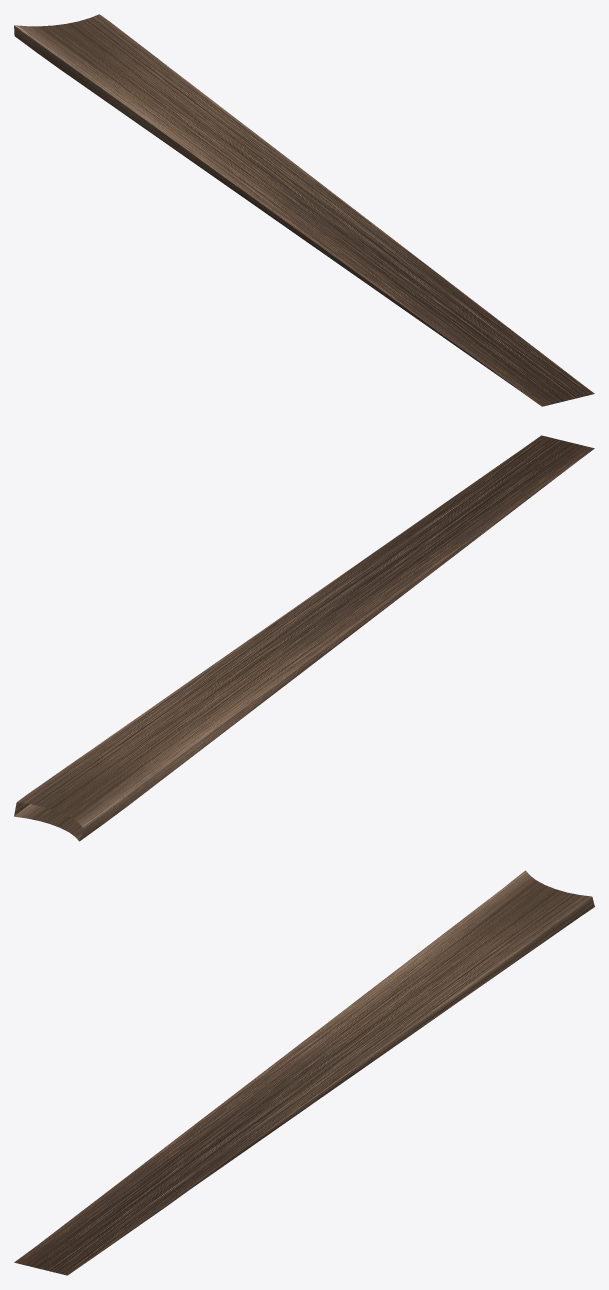
File: Hair_Strand_Part_1.fbx
The picture shows the model from 3 angles, top to bottom: view 1: azimuth 30°, elevation 25°; view 2: azimuth 150°, elevation 25°; view 3: azimuth 330°, elevation 25°; orthographic projection.
Parts seen in each view (by area): view 1: Hair_Strand_Part_1; view 2: Hair_Strand_Part_1; view 3: Hair_Strand_Part_1.
Part boxes in pixels (x1,y1,x2,y2): Hair_Strand_Part_1: (14, 14, 594, 406); Hair_Strand_Part_1: (14, 435, 594, 841); Hair_Strand_Part_1: (14, 870, 594, 1275).
Size of the model in its own units: 8.69 by 1.39 by 102.
